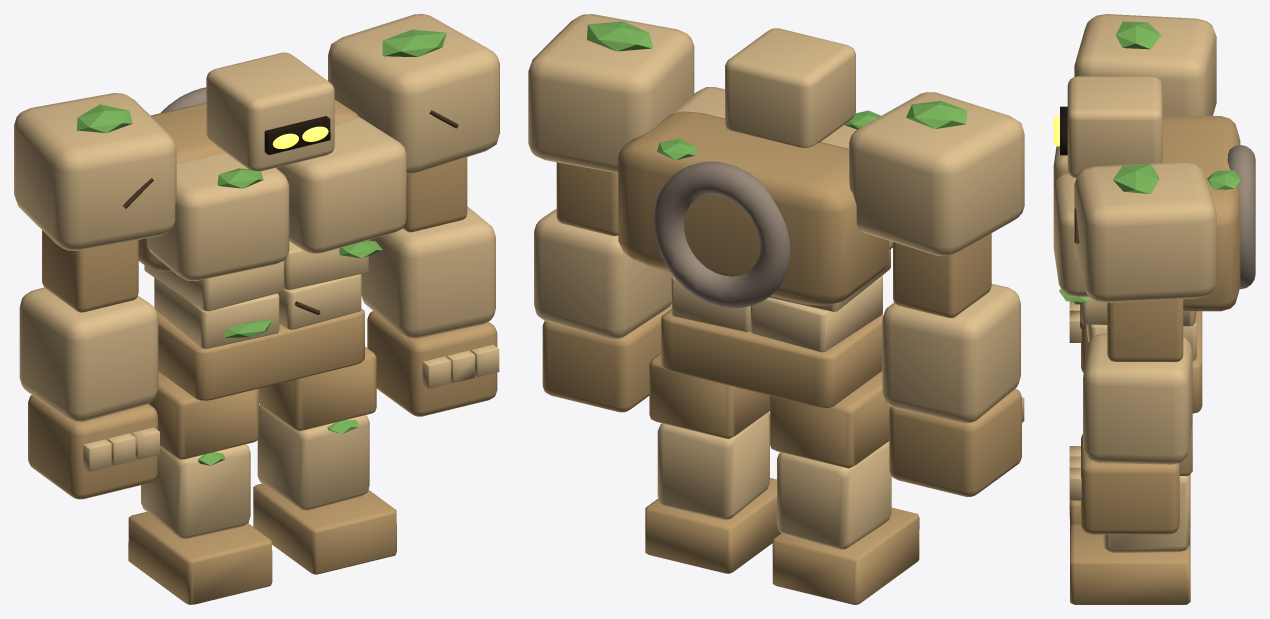
The model's file is boss-guardian.glb.
3 renders of one model, left to right at view 1: azimuth 30°, elevation 25°; view 2: azimuth 150°, elevation 25°; view 3: azimuth 270°, elevation 25°, orthographic. The views are drawn at different scales.
Visible parts, largest first — view 1: upper, armL, armR, legR, legL, head; view 2: upper, armL, armR, legL, legR, head; view 3: armR, upper, armL, legR, head, legL.
Boxes of the visible parts, x1,y1,x2,y2 form: upper: (138, 87, 406, 400); armL: (14, 93, 176, 499); armR: (328, 14, 499, 416); legR: (253, 346, 396, 574); legL: (128, 371, 272, 604); head: (206, 52, 334, 171); upper: (618, 87, 892, 407); armL: (849, 92, 1024, 496); armR: (528, 14, 694, 412); legL: (769, 371, 919, 604); legR: (645, 353, 780, 573); head: (725, 28, 855, 147); armR: (1069, 161, 1216, 534); upper: (1053, 116, 1255, 413); armL: (1069, 14, 1216, 372); legR: (1070, 421, 1192, 604); head: (1053, 76, 1162, 178); legL: (1069, 474, 1190, 526).
Size of the model in its own units: 2.55 by 2.7 by 1.07.
